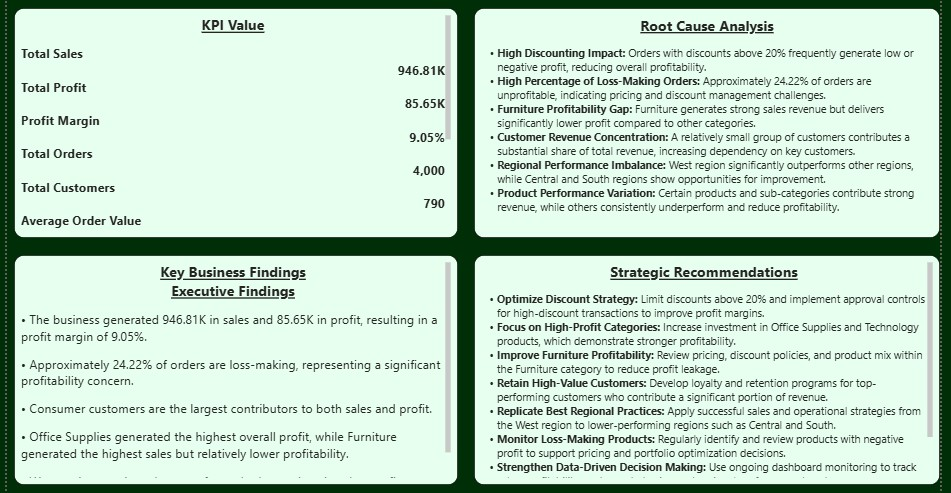

This screenshot's page, from the dashboard's own definition file:
{"tool":"powerbi","page":{"name":"Summary","canvas":[1400,750],"ordinal":4},"visuals":[{"type":"textbox","box":[10.5,18,666,345],"z":0},{"type":"textbox","box":[10.5,388.5,666,345],"z":1000},{"type":"textbox","box":[700.5,18,699,345],"z":2000},{"type":"textbox","box":[700.5,388.5,699,345],"z":3000}]}

Visuals, with their boxes in screenshot pixels (x1, y1, x2, y2):
textbox: (7, 5, 455, 236)
textbox: (7, 254, 455, 485)
textbox: (471, 5, 940, 236)
textbox: (471, 254, 940, 485)
